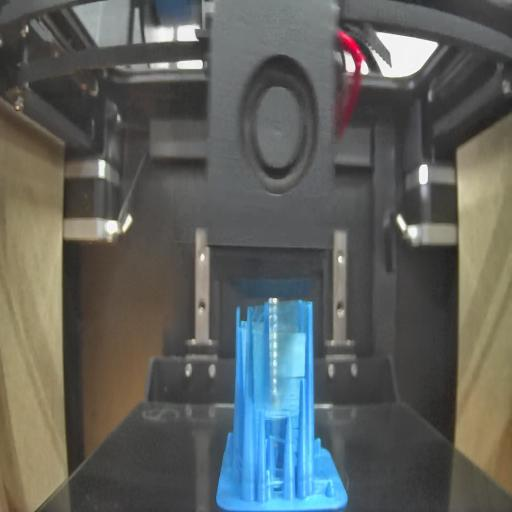stringing: (252, 299, 308, 419), (266, 433, 286, 501), (312, 473, 335, 497)
